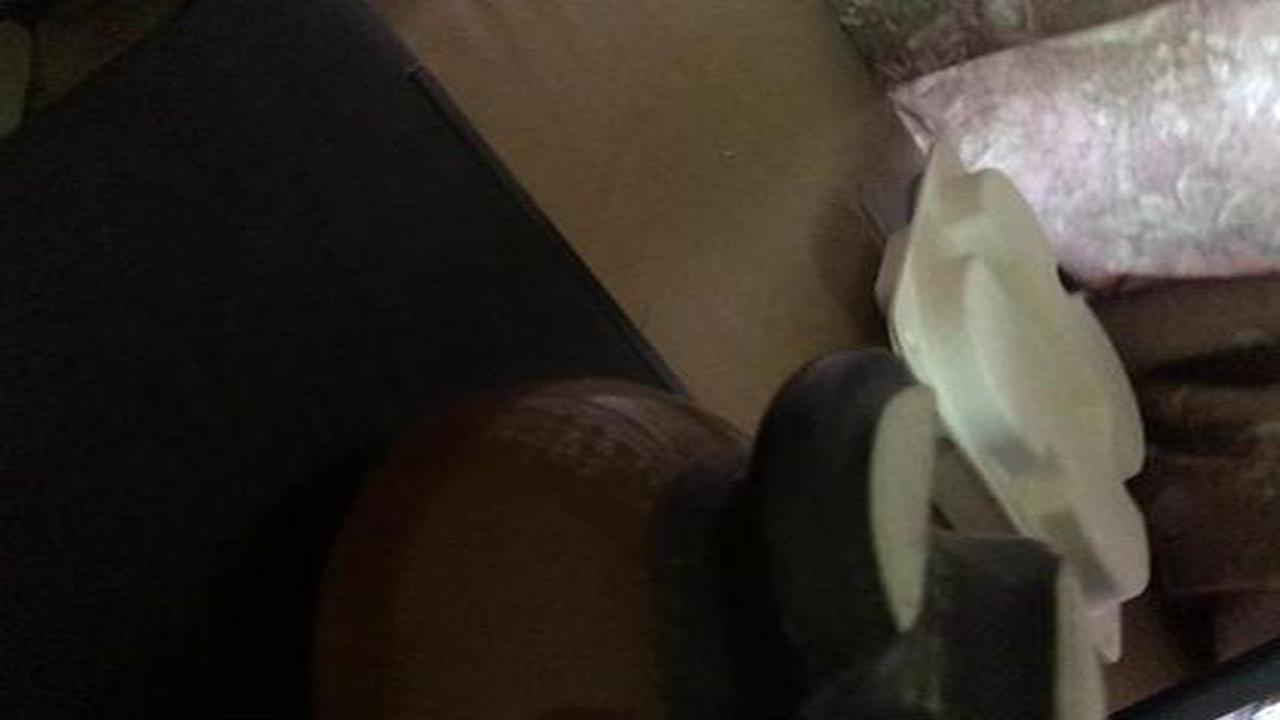insulator_pin: (273, 343, 1087, 720)
